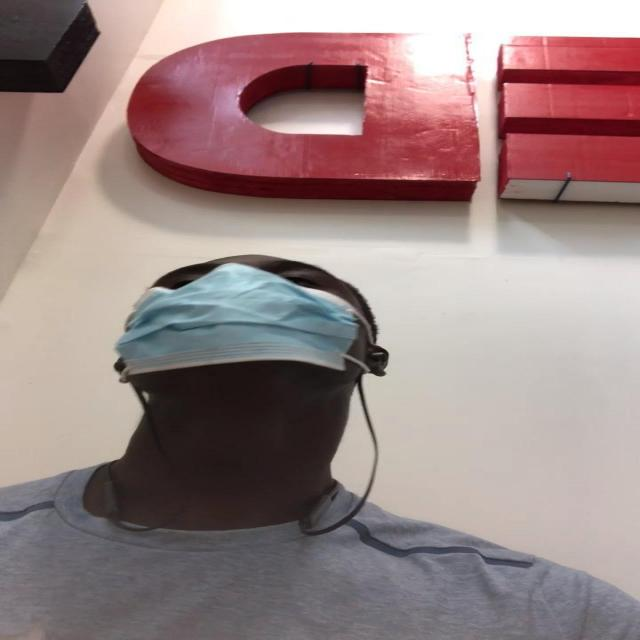face: (114, 254, 377, 402)
